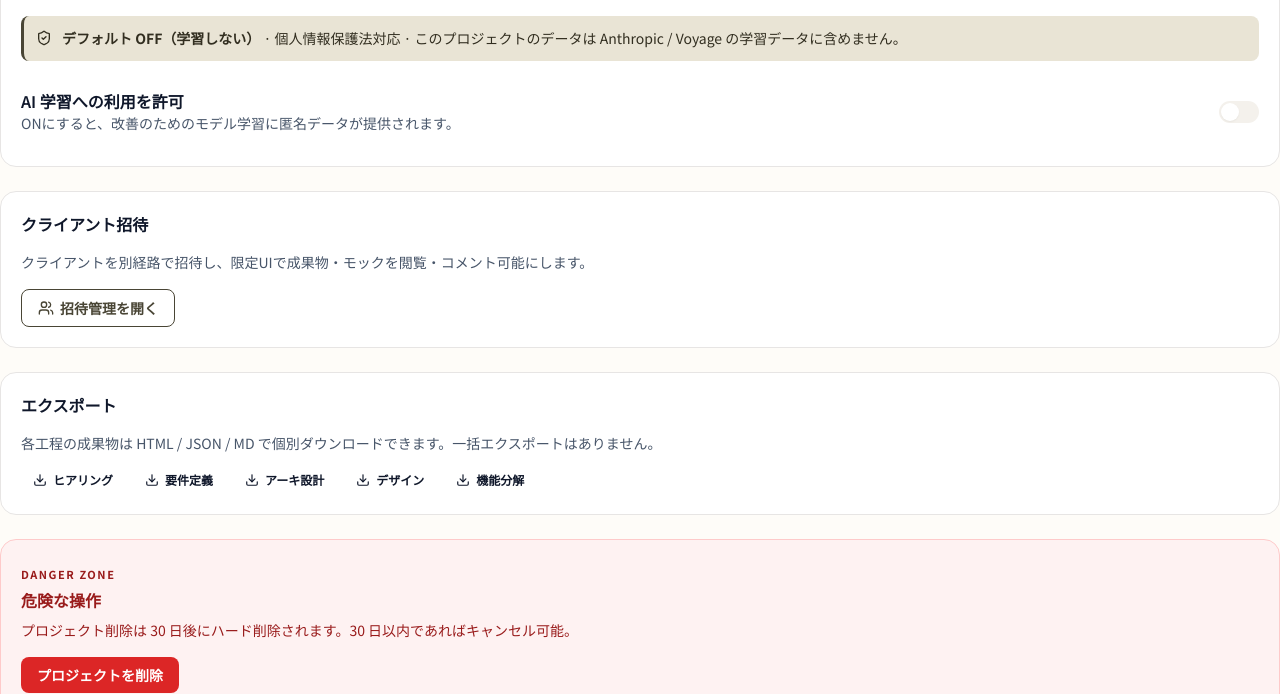
Test: S-B03 ProjectSettingsContainer (T-UC-05) › exports a stage via /outputs → content-url → openUrl
(page scrolled)
Click the button "ヒアリング" at (73, 480), box [21,466,125,494]
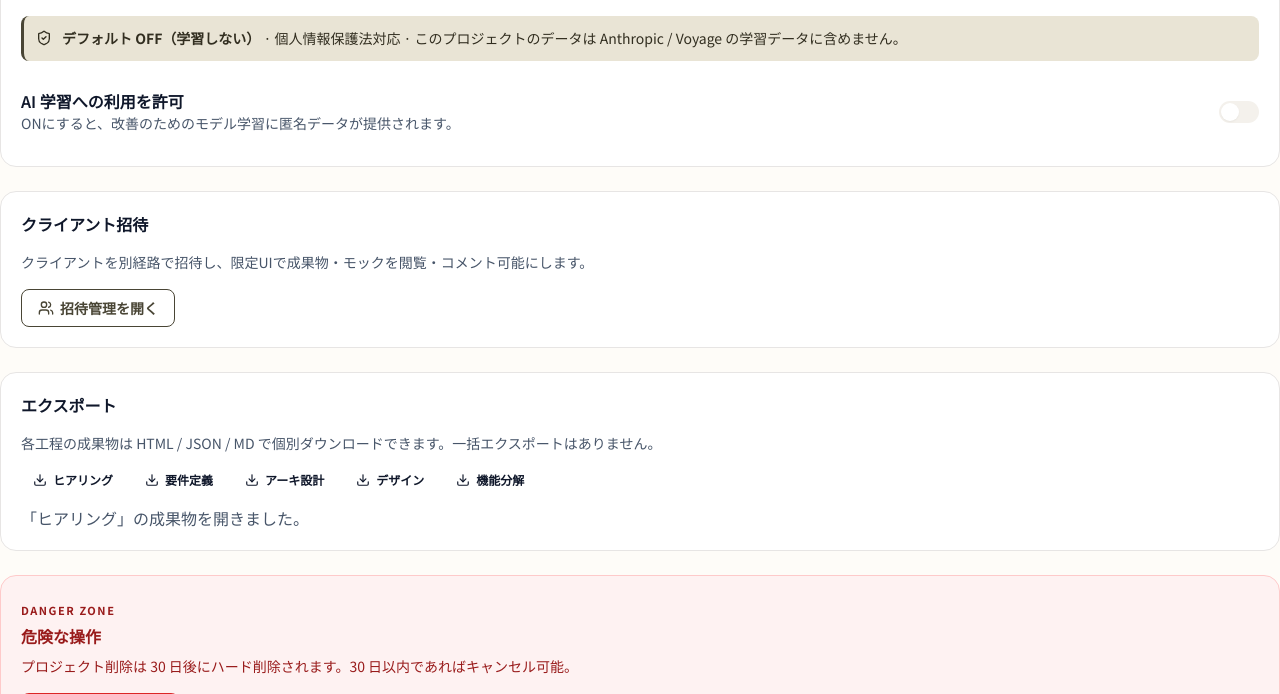
Expected: the text "「ヒアリング」の成果物を開きました。" is shown, [21,506,309,530]
